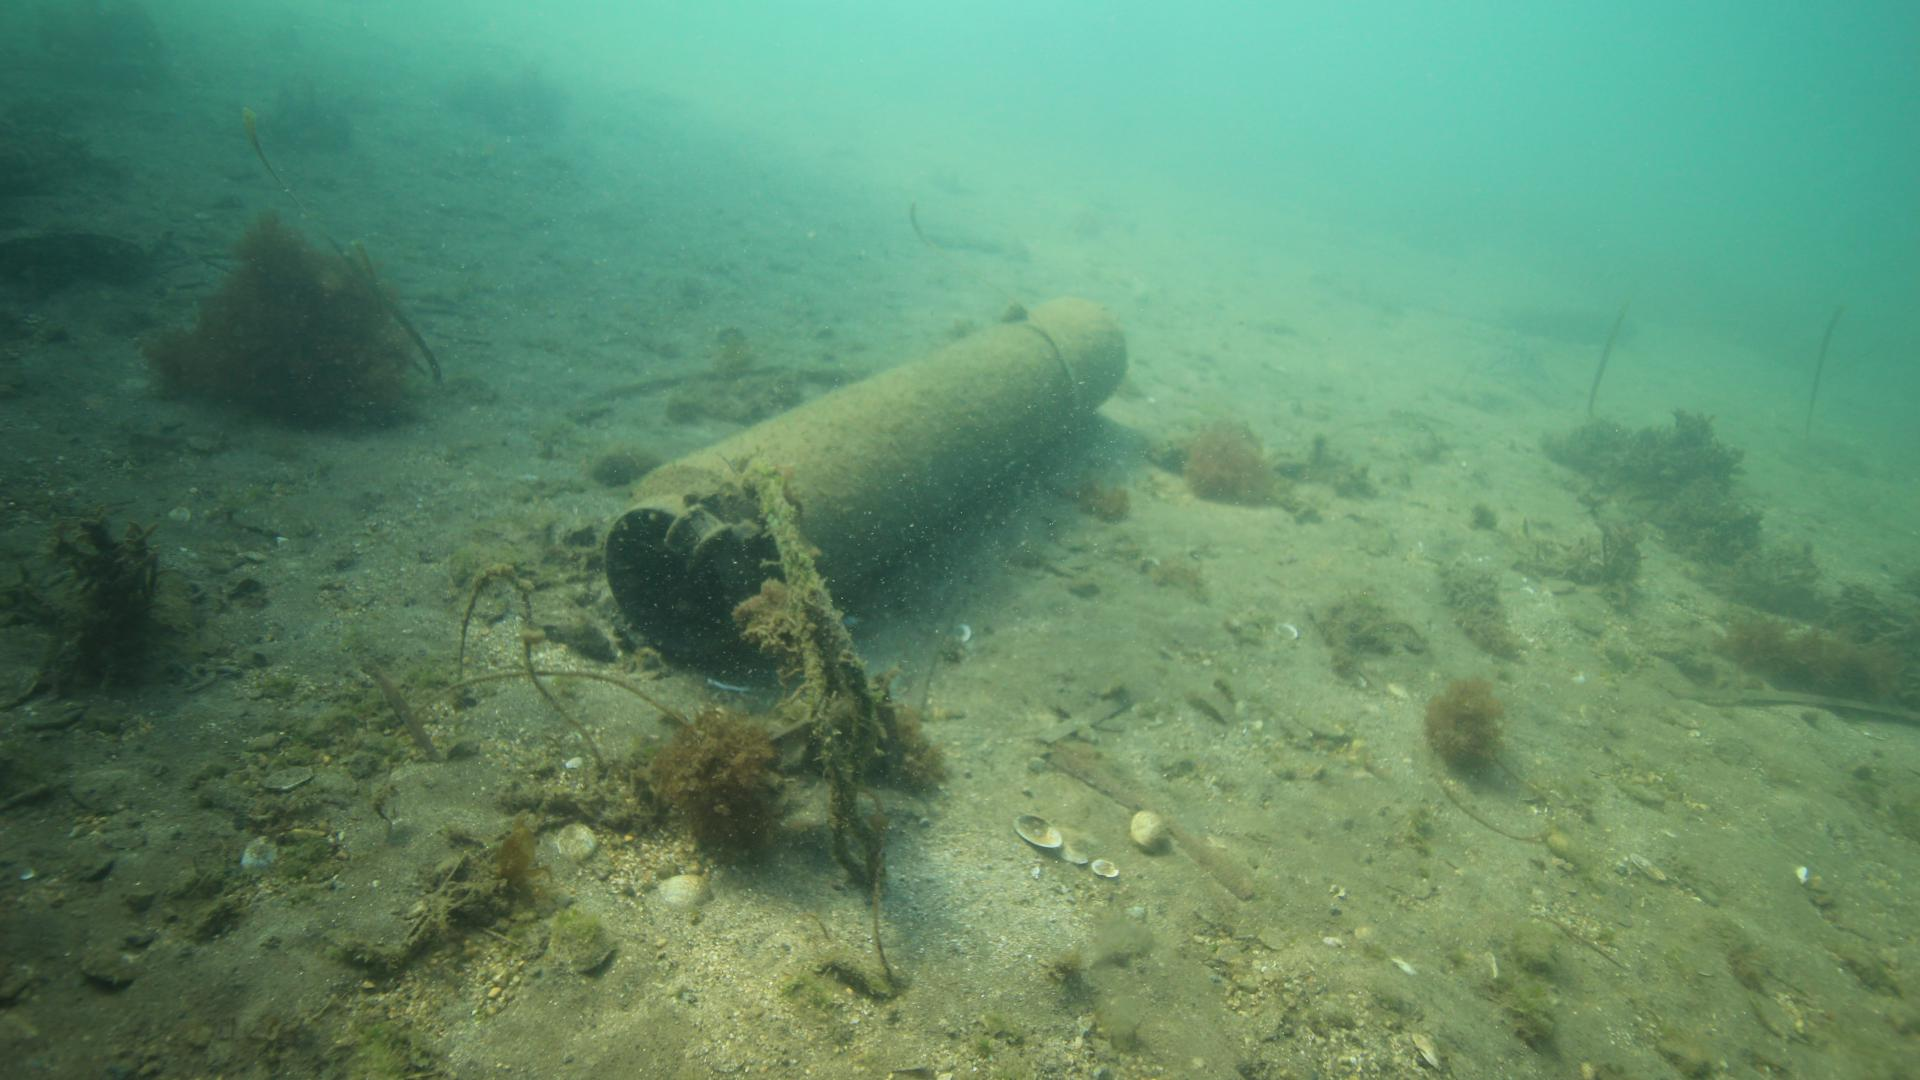eel fish trap: (603, 295, 1129, 663)
rope: (752, 472, 886, 901)
